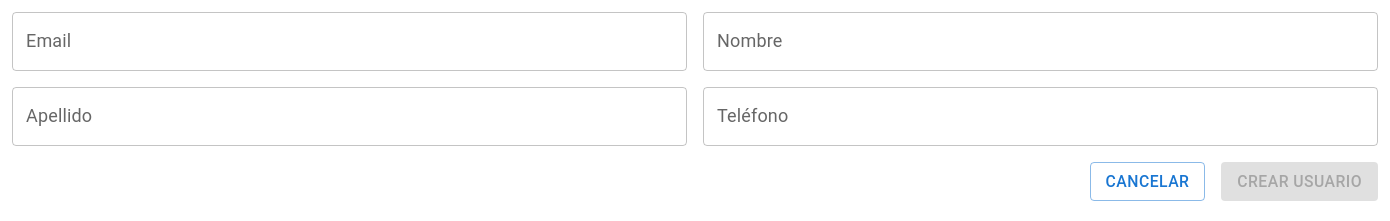
<UserForm /> › habilita botón de crear si todos los campos son válidos
Type "test@example.com" into the field labelled "Email" at {"x": 350, "y": 41}, box left=12, top=12, right=687, bottom=71
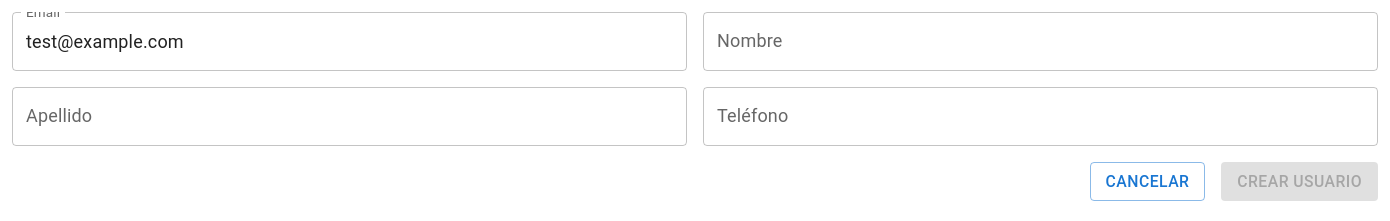
Type "Nombre" into the field labelled "Nombre" at {"x": 1040, "y": 41}, box left=703, top=12, right=1378, bottom=71
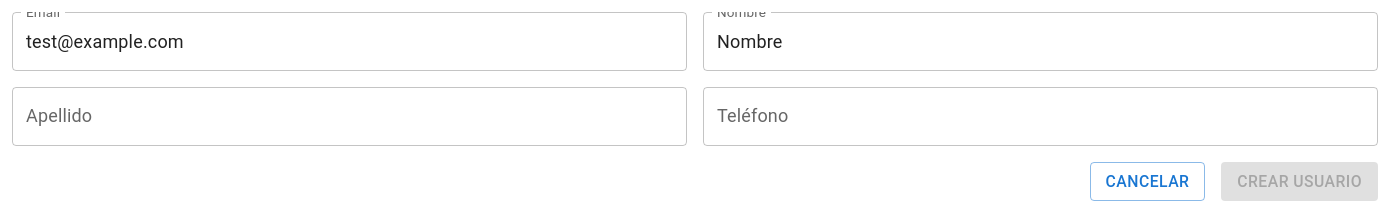
Type "Apellido" into the field labelled "Apellido" at {"x": 350, "y": 116}, box left=12, top=87, right=687, bottom=146
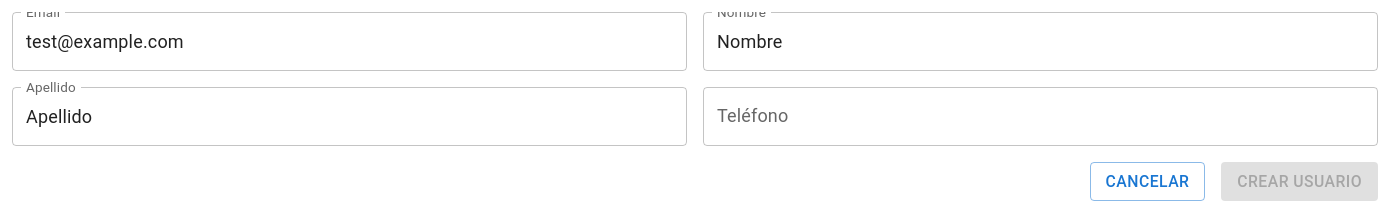
Type "1234567890" into the field labelled "Teléfono" at {"x": 1040, "y": 116}, box left=703, top=87, right=1378, bottom=146
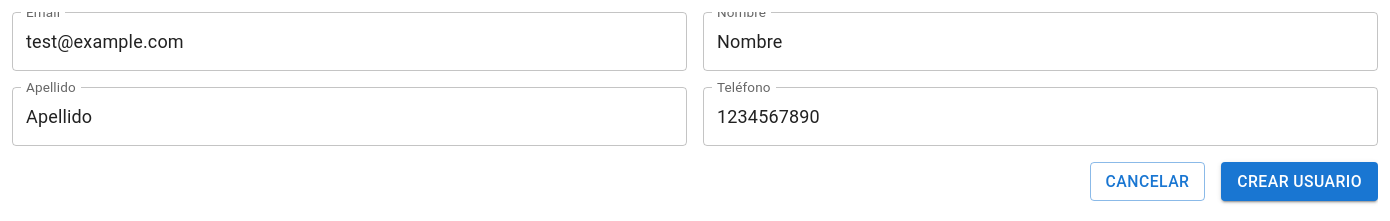
Expected: the button "Crear usuario" is enabled, left=1221, top=162, right=1378, bottom=201
